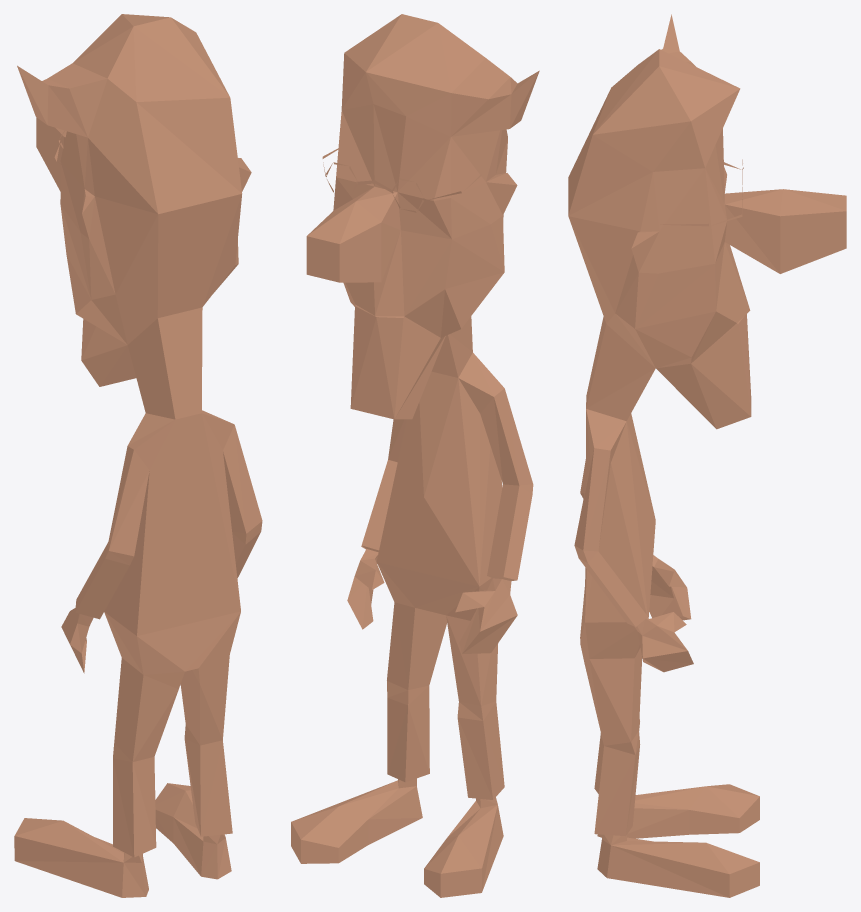
File: hughstop.glb
3 renders of one model, left to right at view 1: azimuth 30°, elevation 25°; view 2: azimuth 150°, elevation 25°; view 3: azimuth 270°, elevation 25°, orthographic. The views are drawn at different scales.
Parts seen in each view (by area): view 1: hughstop; view 2: hughstop; view 3: hughstop.
Part boxes in pixels (left/top/right/bottom): hughstop: left=14, top=14, right=262, bottom=897; hughstop: left=291, top=14, right=539, bottom=897; hughstop: left=568, top=14, right=846, bottom=897.
Bounding box in the file's own units: 88.96 × 320 × 101.
